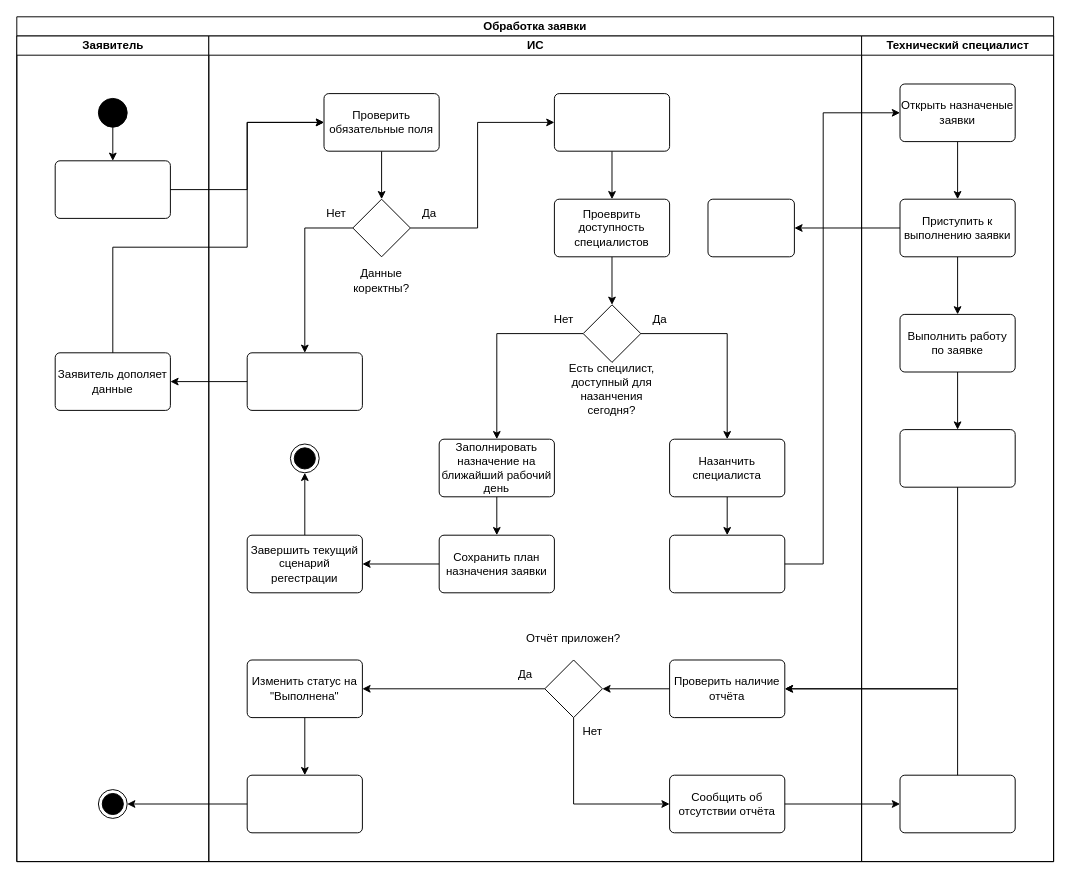
Image size: 1070x878. Some labels were removed from this diagram. Here are the shapes that lost their labels. From the top down, the centre of each, then its label:
[611,122]: Сохранить заявку в БД
[112,189]: Заявитель заполняет и отпраляет заявку
[750,227]: Изменить статус на "В работе"
[304,381]: Сообщить о недостоющих данных
[957,458]: Сформировать отчёт и прекрепить его к заявке
[727,563]: Уведомить специалиста
[304,803]: ИС уведомлеят заявителя
[957,803]: Прикрепить отчёт
